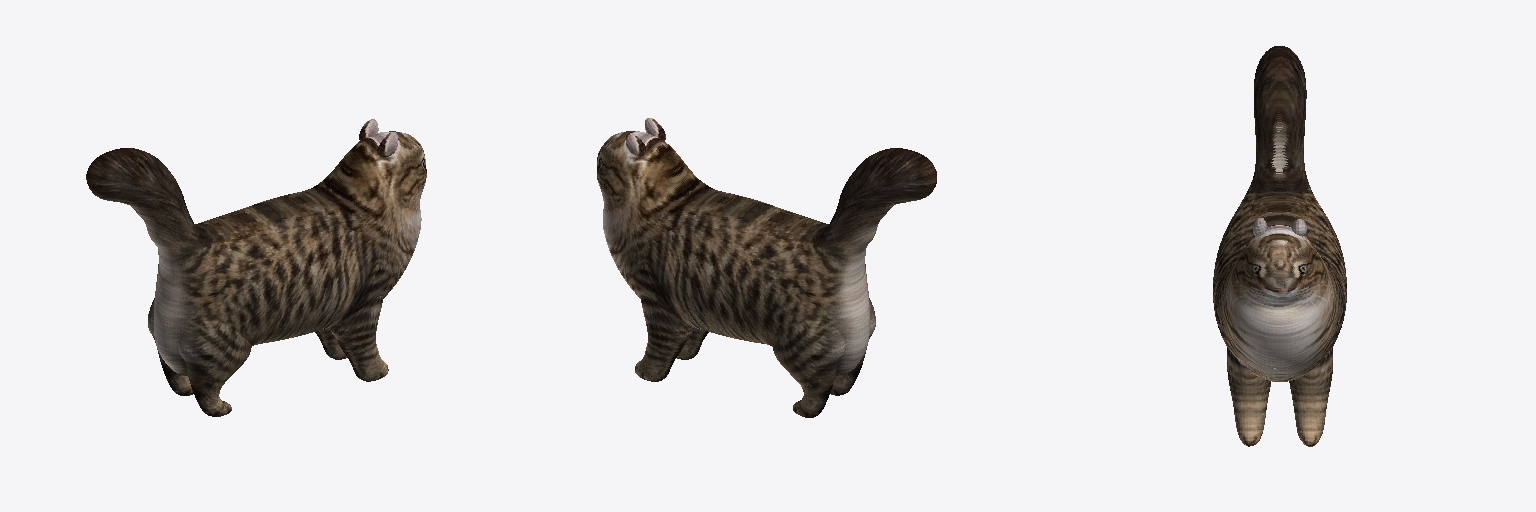
The picture shows the model from 3 angles: view 1: azimuth 30°, elevation 25°; view 2: azimuth 150°, elevation 25°; view 3: azimuth 270°, elevation 25°; orthographic projection.
Parts seen in each view (by area): view 1: Mesh_0; view 2: Mesh_0; view 3: Mesh_0.
Part boxes in pixels (left/top/right/bottom): Mesh_0: left=86, top=119, right=426, bottom=416; Mesh_0: left=597, top=118, right=936, bottom=417; Mesh_0: left=1213, top=46, right=1346, bottom=446.
Bounding box in the file's own units: 9.34 × 7.36 × 3.24.
1 materials, 1 textured.